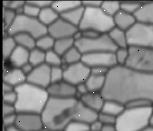good_void: (52, 102, 73, 128), (3, 54, 16, 75), (137, 53, 146, 64), (143, 58, 149, 65)
